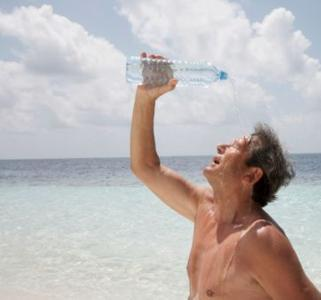person: (130, 51, 321, 300)
